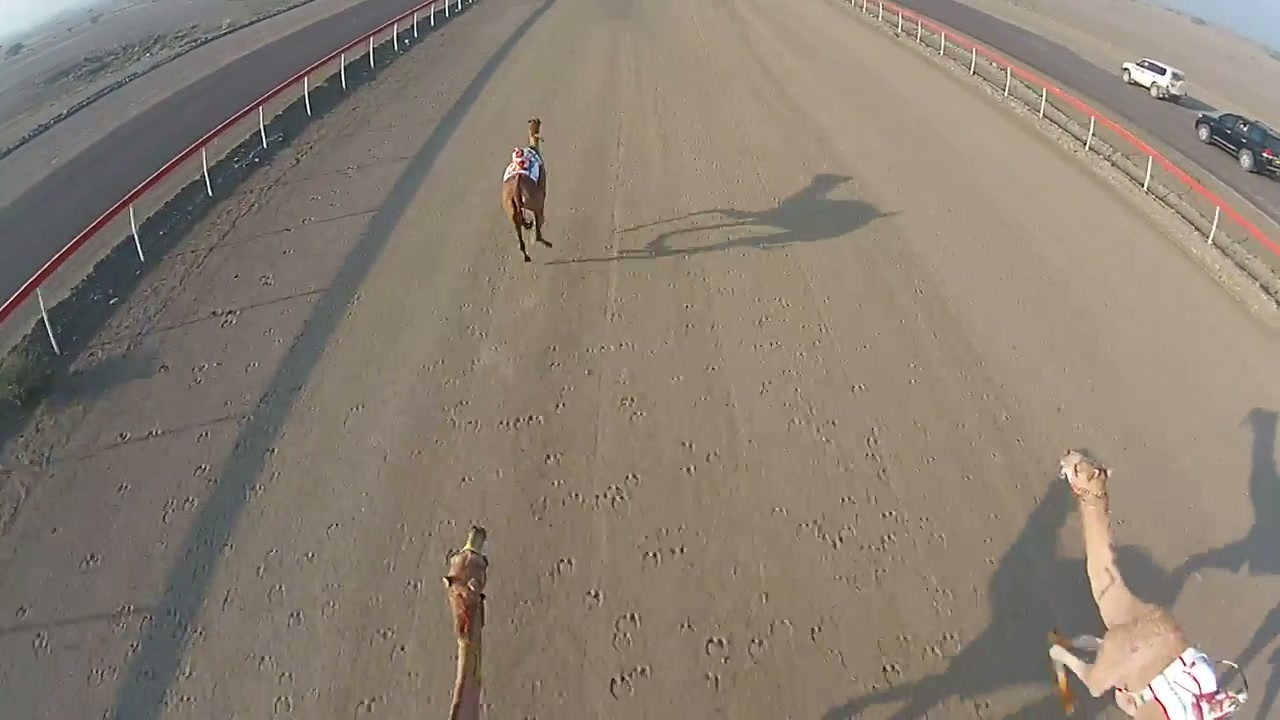animal_footprint: (457, 238, 964, 713), (0, 138, 348, 713)
